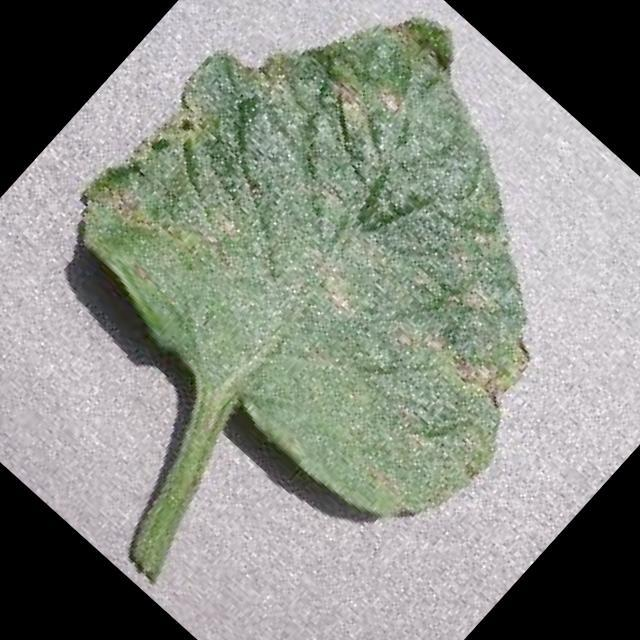Tomato Septoria spot leaf: (39, 0, 640, 562)
